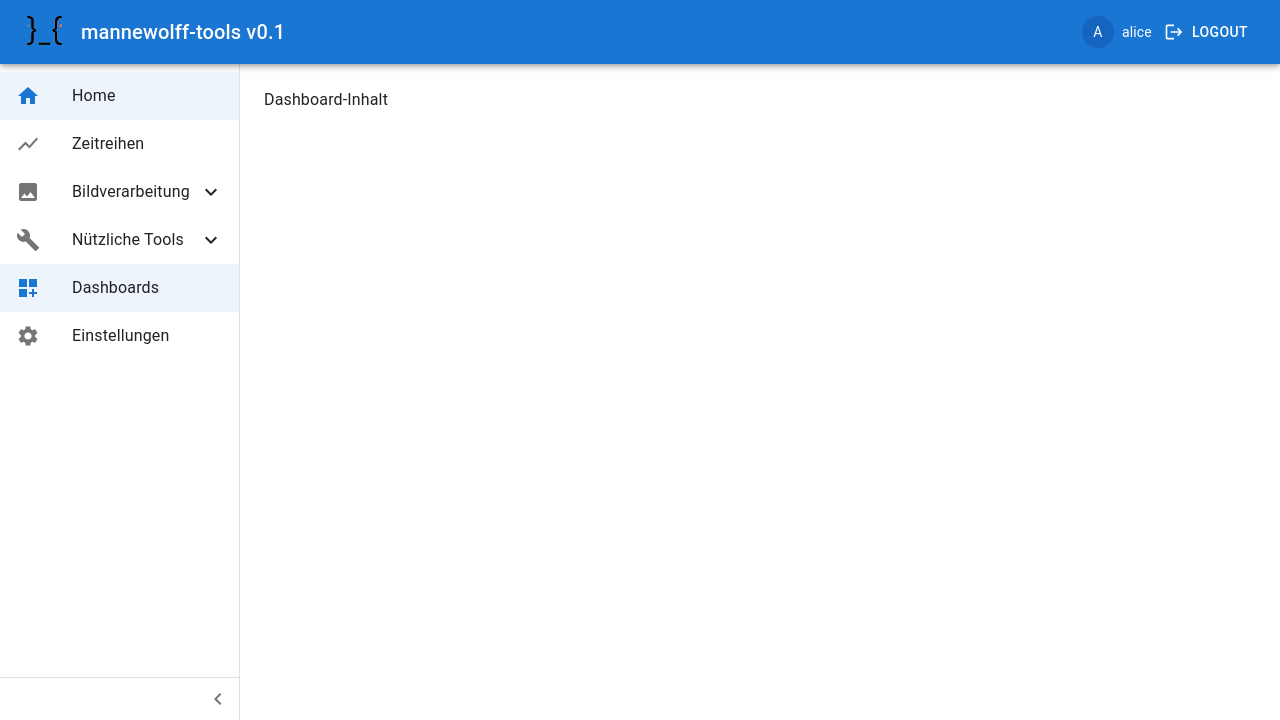
Test: AppShell collapsed sidebar › hides labels and shows only icons when collapsed via toggle
The image size is (1280, 720).
Note: Sidebar einklappen
Click the button named "Menü einklappen" at (218, 699), box [201,682,235,716]
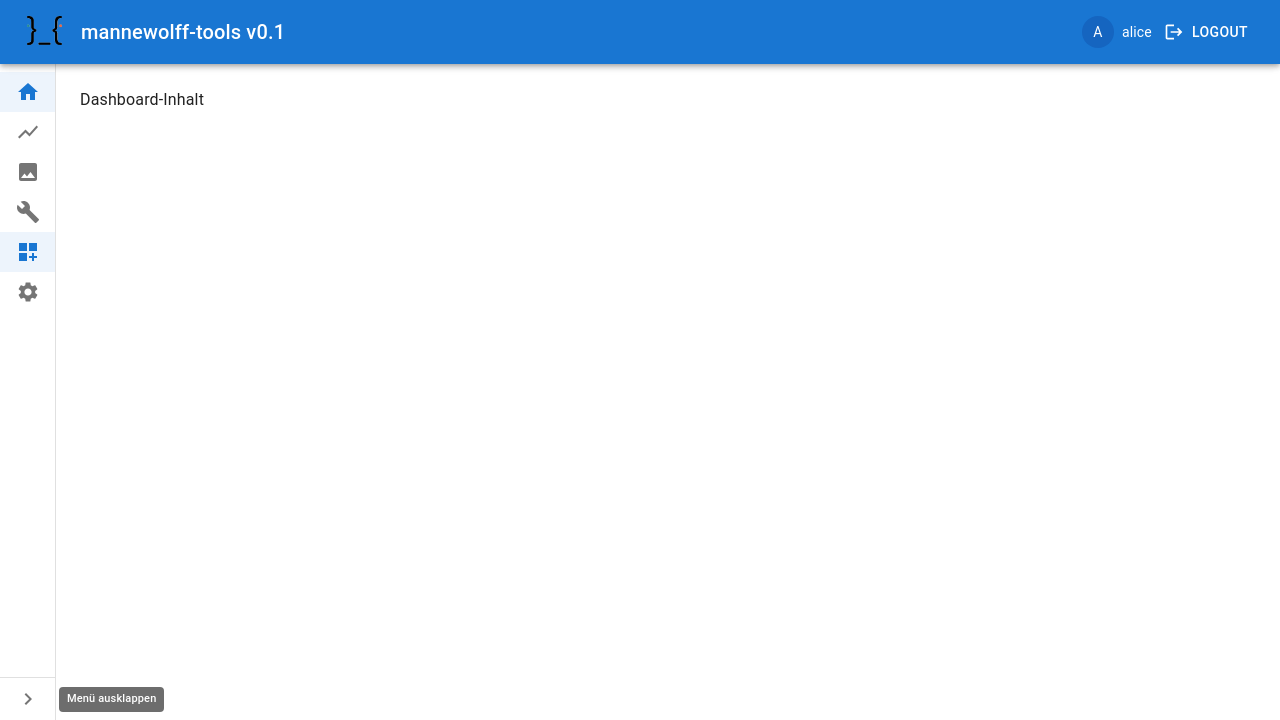
Now the button "Home" is gone
Now the button "Einstellungen" is gone
Now the button named "Menü ausklappen" is shown, box [10,682,44,716]
